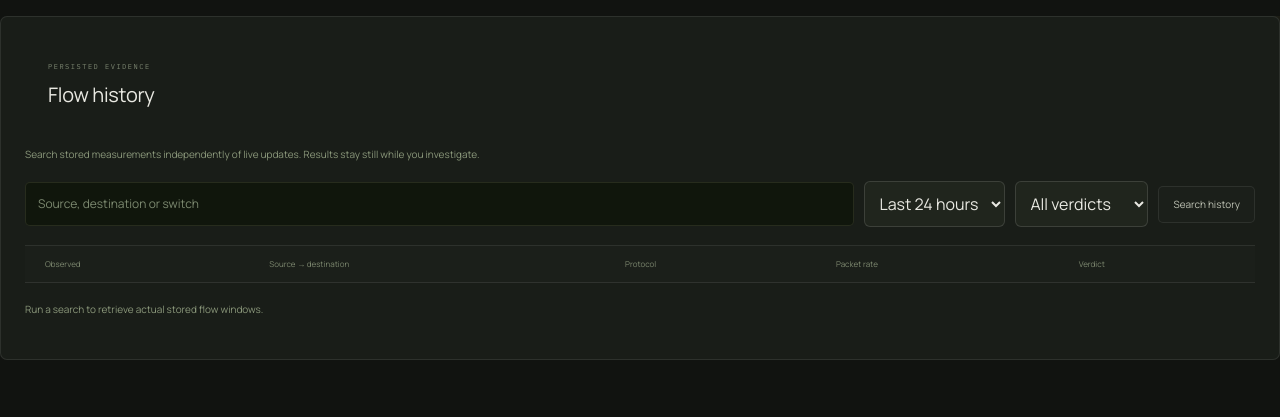
Test: workspace access › searches server-side history and appends the next cursor without losing rows
Type "192.0.2" into the field named "Search historical flows" at (440, 204), box [25,182,854,226]
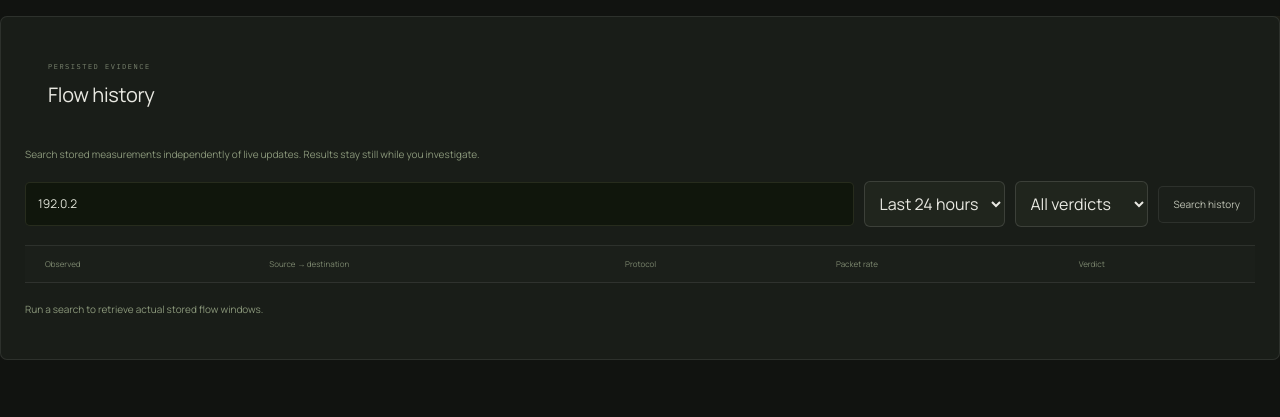
Click the button "Search history" at (1207, 204), box [1158,186,1255,222]
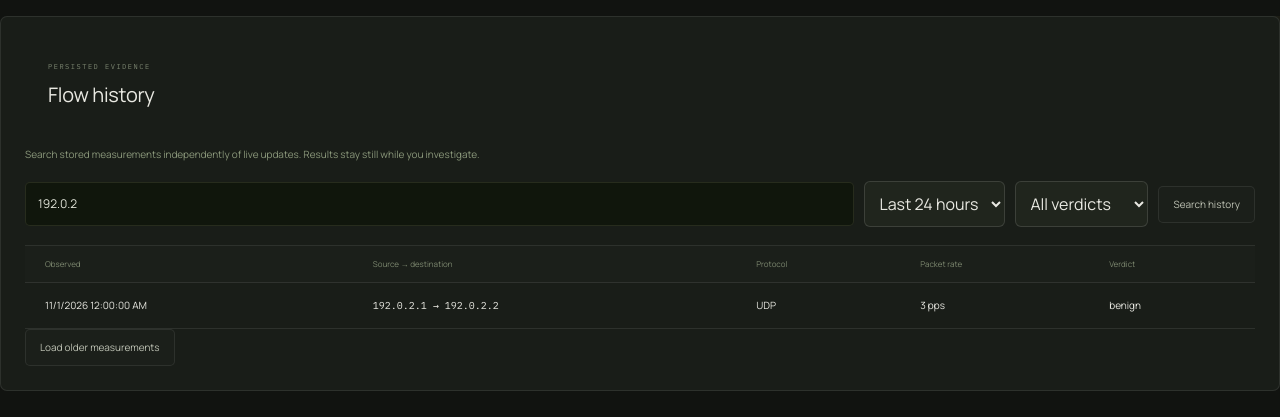
Now the button "Load older measurements" is shown
Click the button "Load older measurements" at (100, 348), box [25,329,175,366]
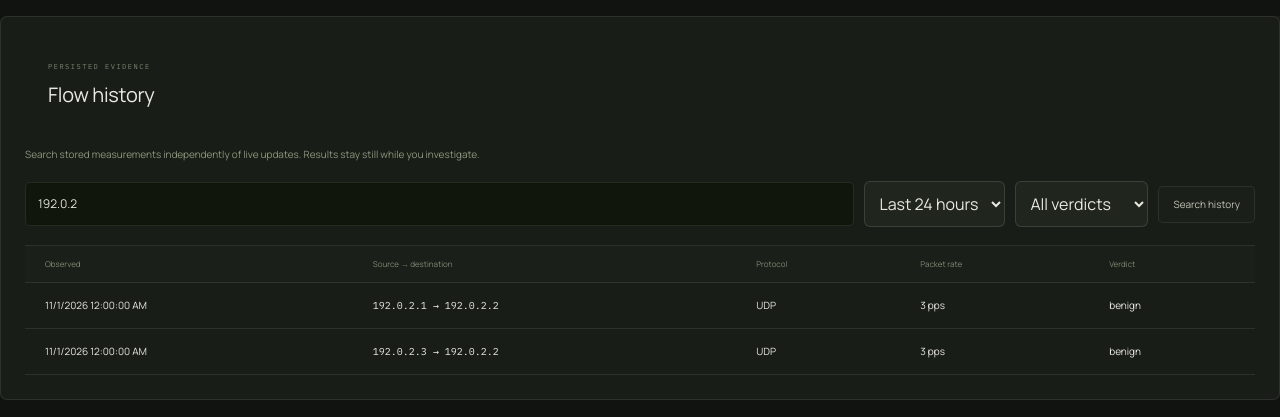
Now the text "192.0.2.3 → 192.0.2.2" is shown, box [353,328,736,374]
